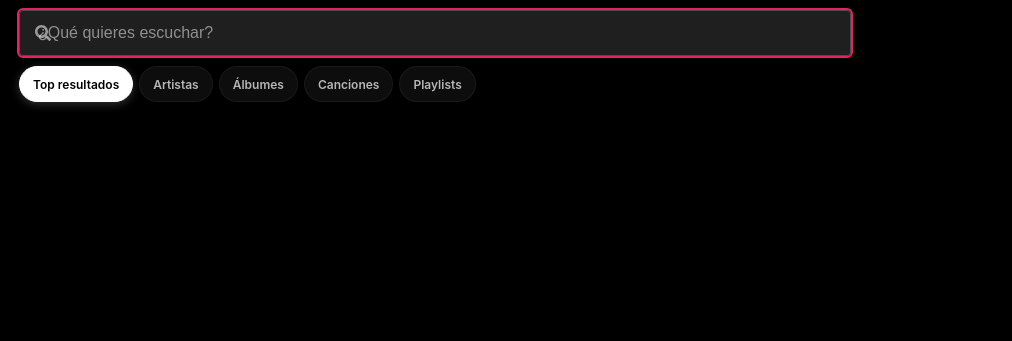
Test case: Búsqueda y reproducción esenciales › conserva los resultados disponibles si una categoría falla
Type "Luz" into the search field named "Buscar música" at (435,33), box [19,10,851,56]
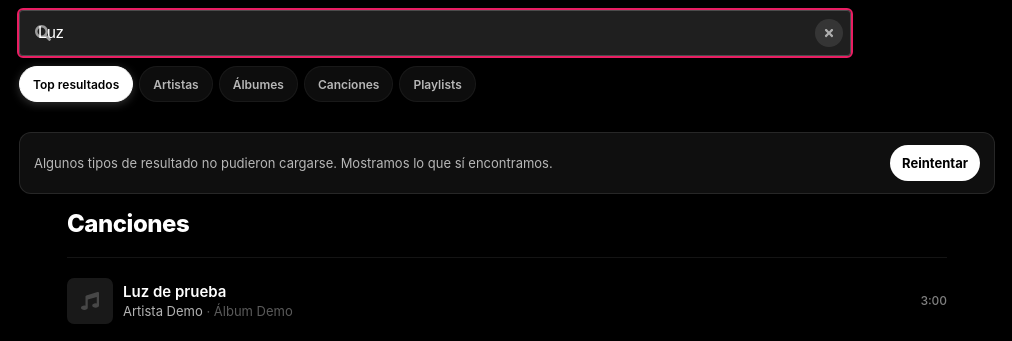
Now the text "Luz de prueba" is shown, box [123,282,226,301]
Now the text "Algunos tipos de resultado no pudieron cargarse" is shown, box [34,155,553,171]
